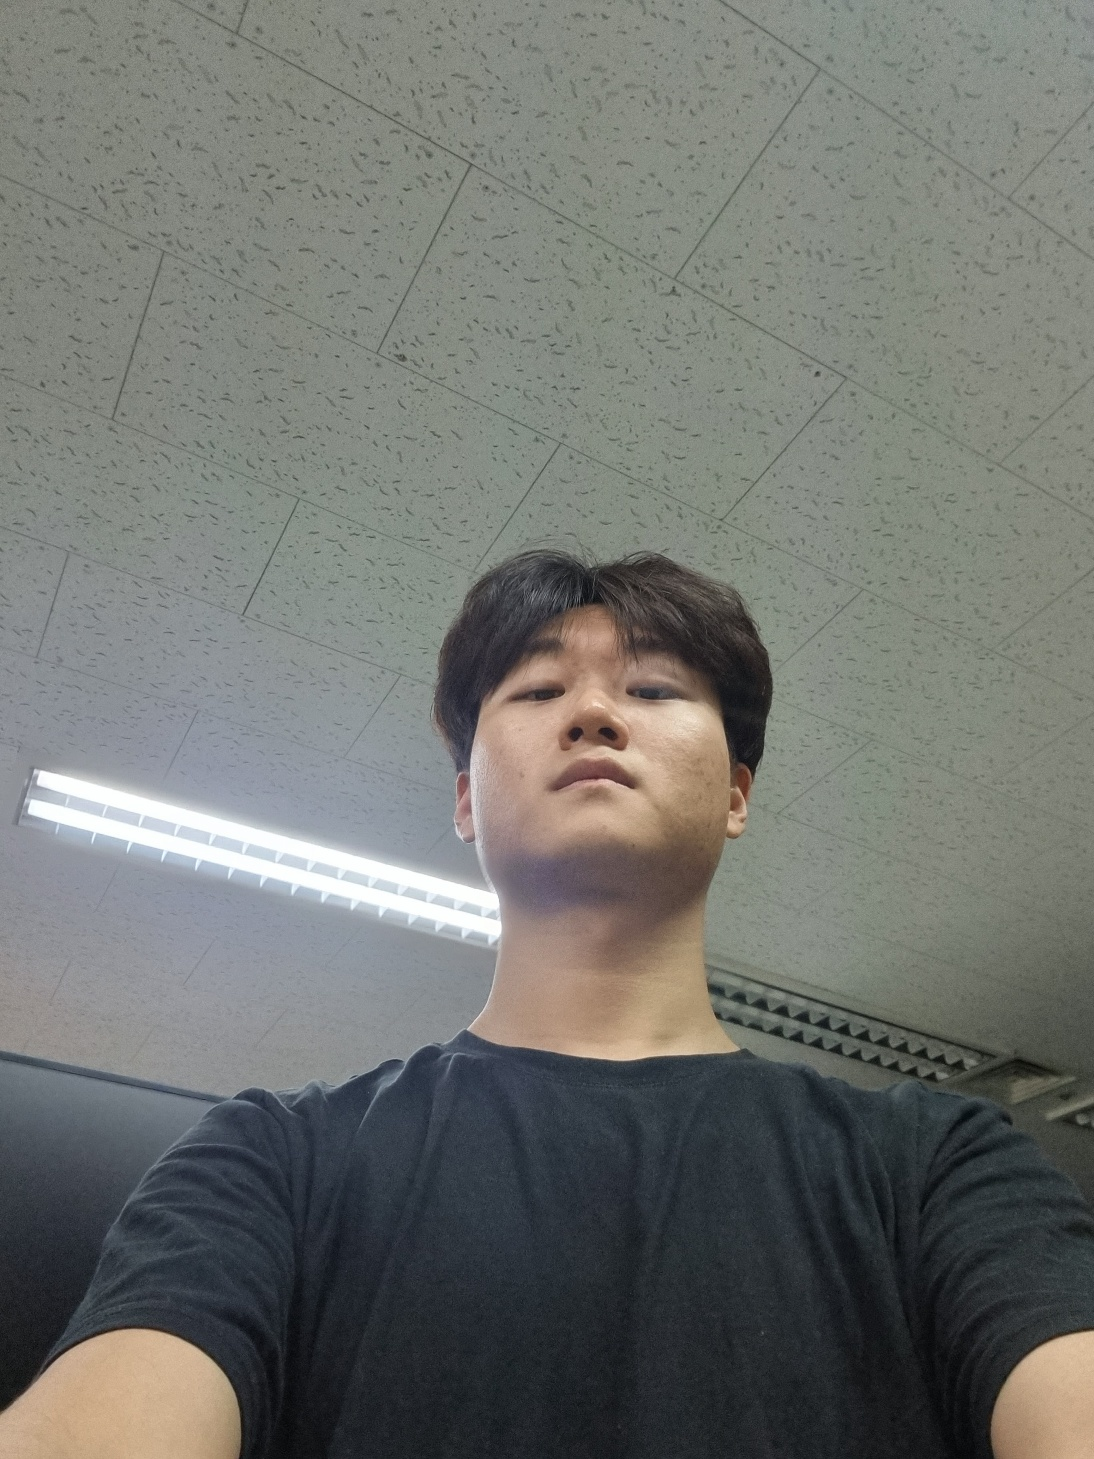Non-Helmet: (387, 474, 819, 934)
